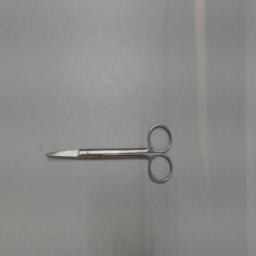Curved Mayo Scissors: (46, 124, 174, 186)
